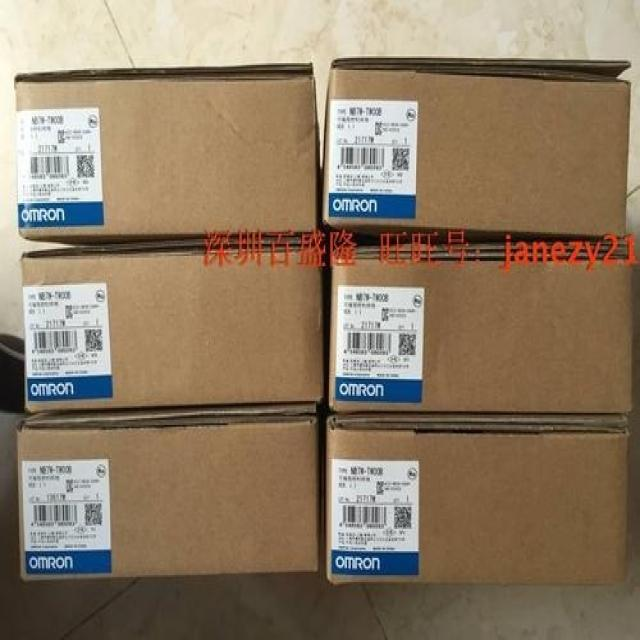box: (324, 58, 637, 241), (15, 399, 324, 582), (14, 61, 320, 241), (23, 237, 323, 413), (326, 411, 634, 582), (328, 244, 634, 415)
